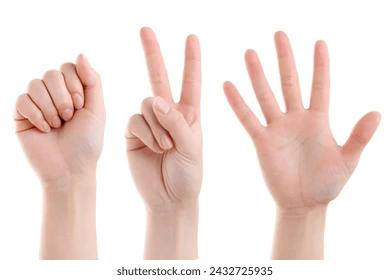paper: (220, 29, 383, 207)
rock: (13, 52, 106, 178)
scissors: (122, 27, 205, 204)
